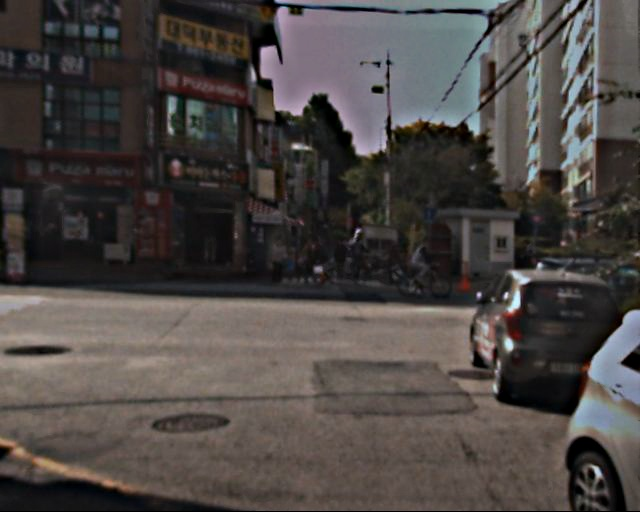person: (299, 234, 328, 283), (522, 239, 543, 290), (388, 236, 409, 286), (268, 235, 289, 285), (412, 237, 432, 286), (332, 235, 350, 279), (350, 236, 368, 279)
